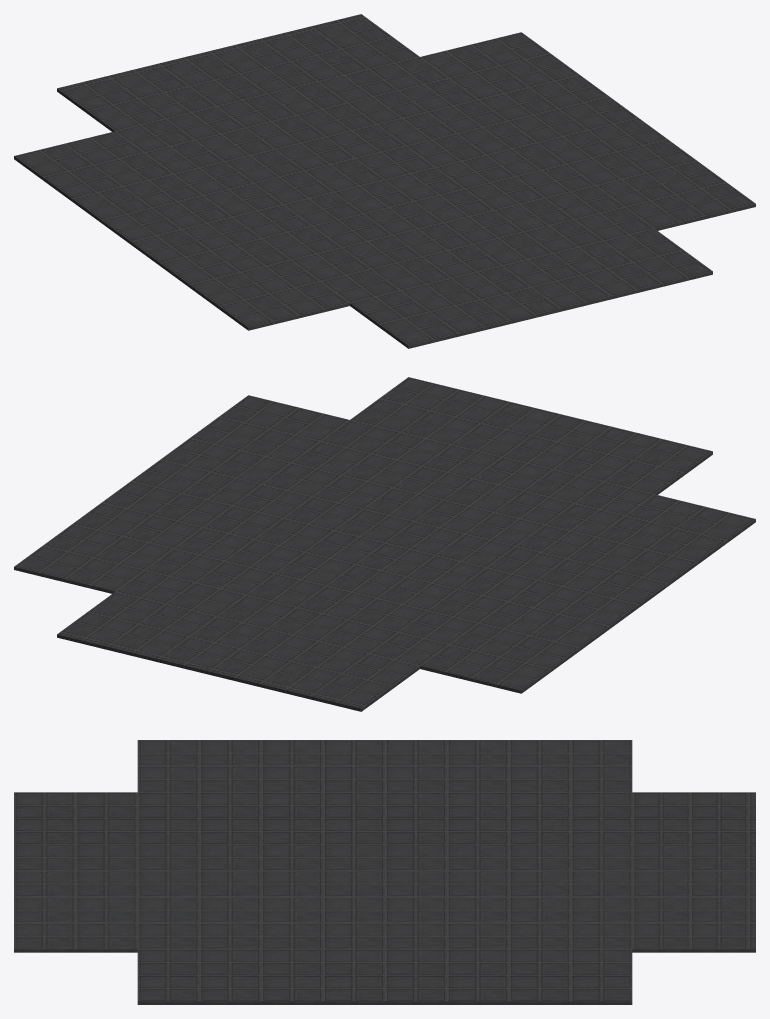
File: Homeworld_Interior_Dq_Room_D_Ceiling_01_Vo.fbx
3 views of the same model, one above another, from view 1: azimuth 30°, elevation 25°; view 2: azimuth 150°, elevation 25°; view 3: azimuth 270°, elevation 25° (orthographic). The views are drawn at different scales.
Visible parts, largest first — view 1: Homeworld_Interior_Dq_Room_D_Ceiling_01_Vo; view 2: Homeworld_Interior_Dq_Room_D_Ceiling_01_Vo; view 3: Homeworld_Interior_Dq_Room_D_Ceiling_01_Vo.
Part boxes in pixels (x1,y1,x2,y2): Homeworld_Interior_Dq_Room_D_Ceiling_01_Vo: (14,14,755,348); Homeworld_Interior_Dq_Room_D_Ceiling_01_Vo: (14,377,755,711); Homeworld_Interior_Dq_Room_D_Ceiling_01_Vo: (14,740,755,1004).
Size of the model in its own units: 25 by 0.15 by 30.
